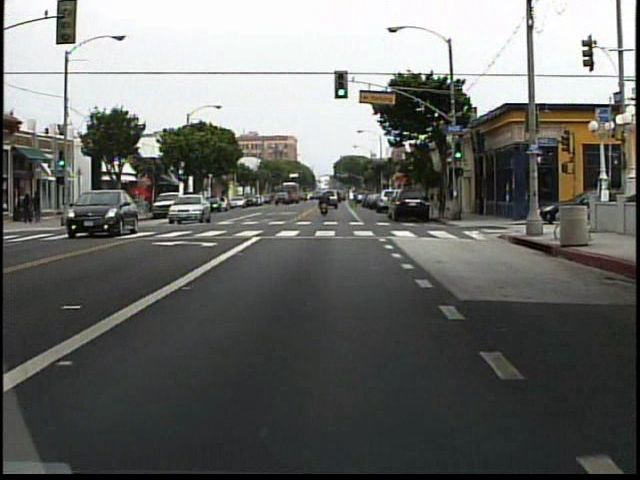person: (22, 193, 35, 225), (35, 189, 46, 224), (317, 189, 330, 217)
